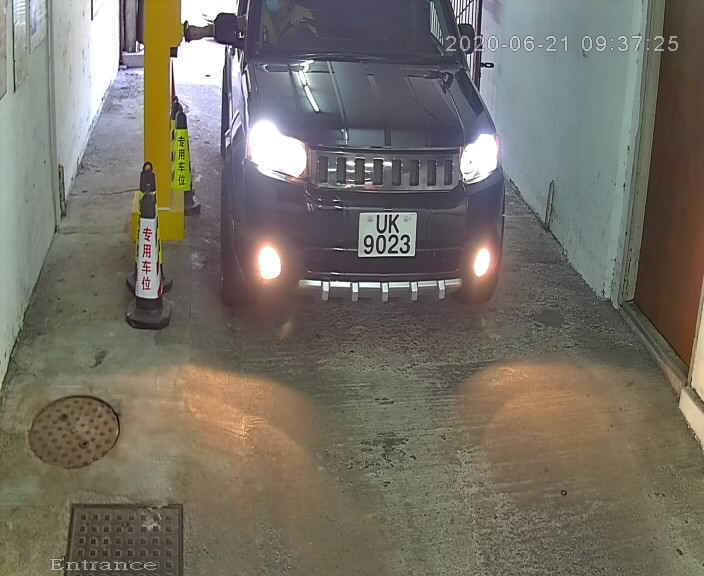privatecar: (208, 1, 524, 343)
